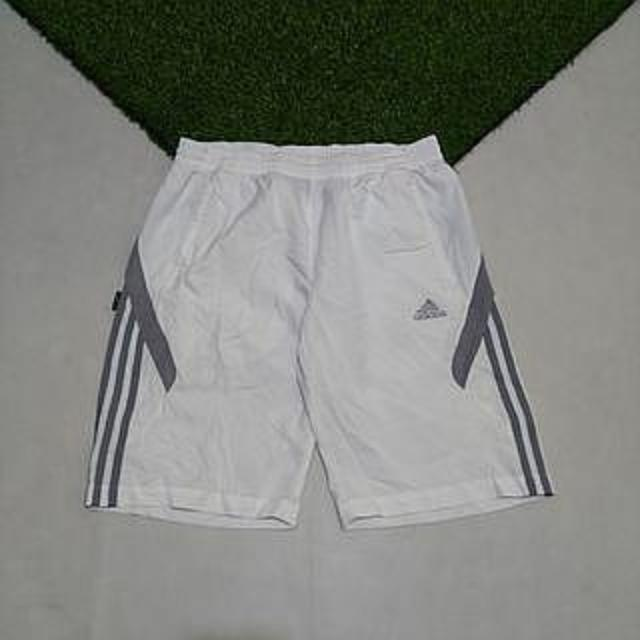SHORT: (73, 126, 566, 536)
